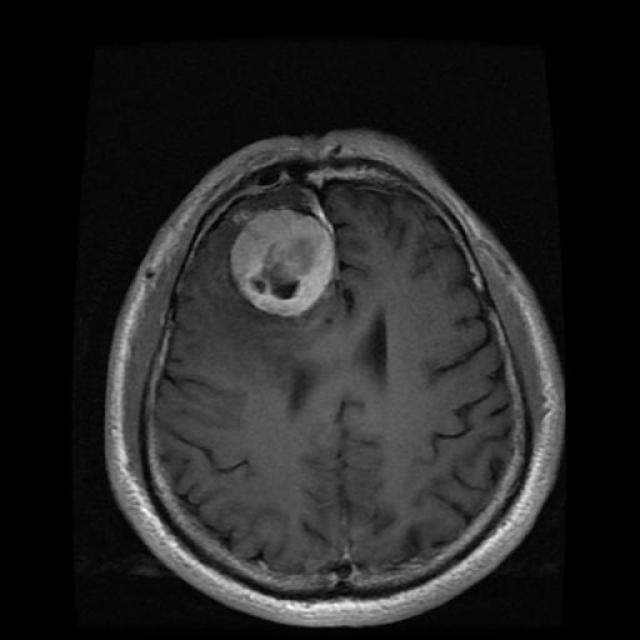Meningioma: (230, 208, 336, 317)
